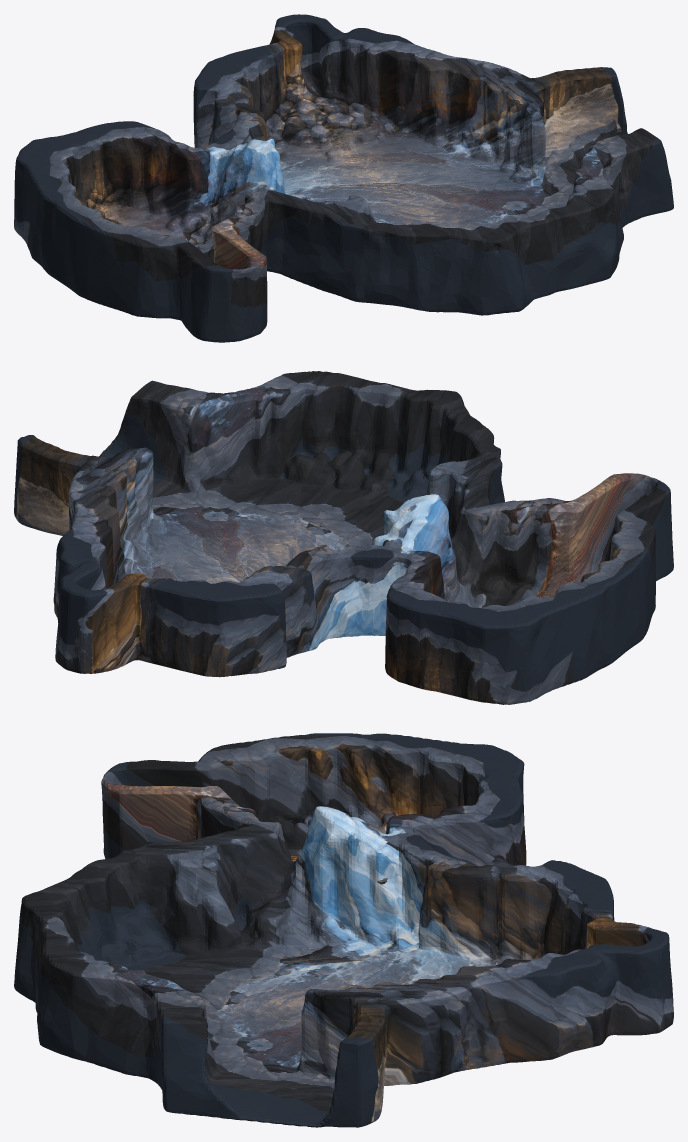
The model's file is ice-and-lava-passage-reduced-v2.glb.
3 views of the same model, one above another, from view 1: azimuth 30°, elevation 25°; view 2: azimuth 150°, elevation 25°; view 3: azimuth 270°, elevation 25° (orthographic). The views are drawn at different scales.
Parts seen in each view (by area): view 1: geometry_0; view 2: geometry_0; view 3: geometry_0.
Part boxes in pixels (x1=…): geometry_0: x1=14, y1=14, x2=673, y2=342; geometry_0: x1=14, y1=371, x2=673, y2=704; geometry_0: x1=14, y1=733, x2=673, y2=1127.
Size of the model in its own units: 1.98 by 0.3333 by 1.76.
1 material, 1 textured.
